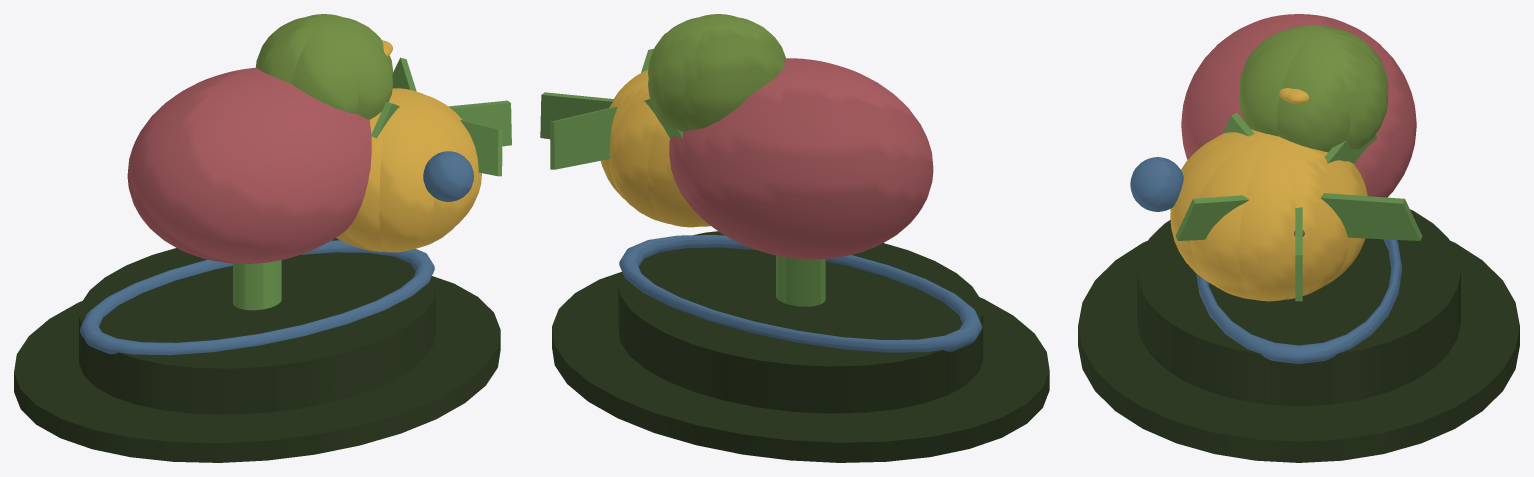
Rendered from 0103_植物图鉴_猪笼草.glb.
3 views of the same model, side by side, from view 1: azimuth 30°, elevation 25°; view 2: azimuth 150°, elevation 25°; view 3: azimuth 270°, elevation 25° (orthographic). The views are drawn at different scales.
Visible parts, largest first — view 1: card_0103; view 2: card_0103; view 3: card_0103.
Boxes of the visible parts, x1=… form: card_0103: x1=14, y1=14, x2=511, y2=462; card_0103: x1=540, y1=14, x2=1049, y2=462; card_0103: x1=1078, y1=14, x2=1519, y2=462.
Size of the model in its own units: 1.52 by 1 by 1.14.
